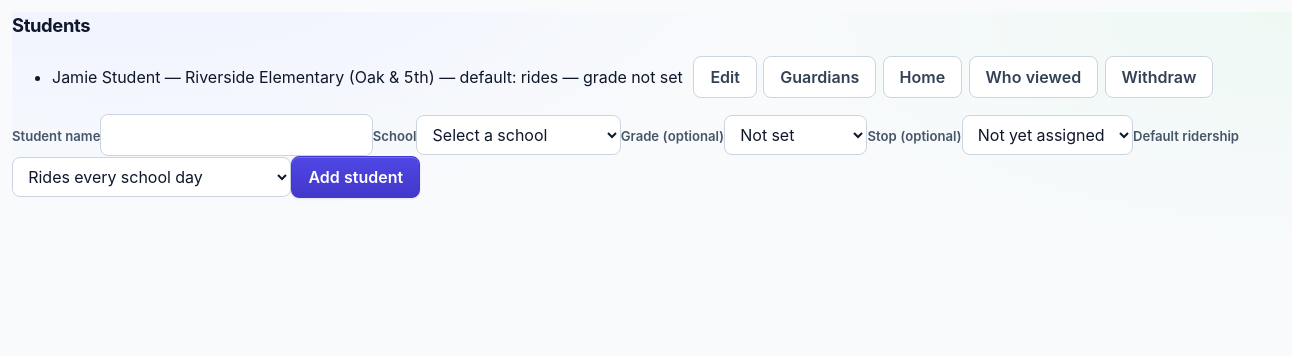
StudentsSection › shows the server error when saving fails
Click the button with aria-label "Edit Jamie Student": click(725, 77) [693,56,757,98]
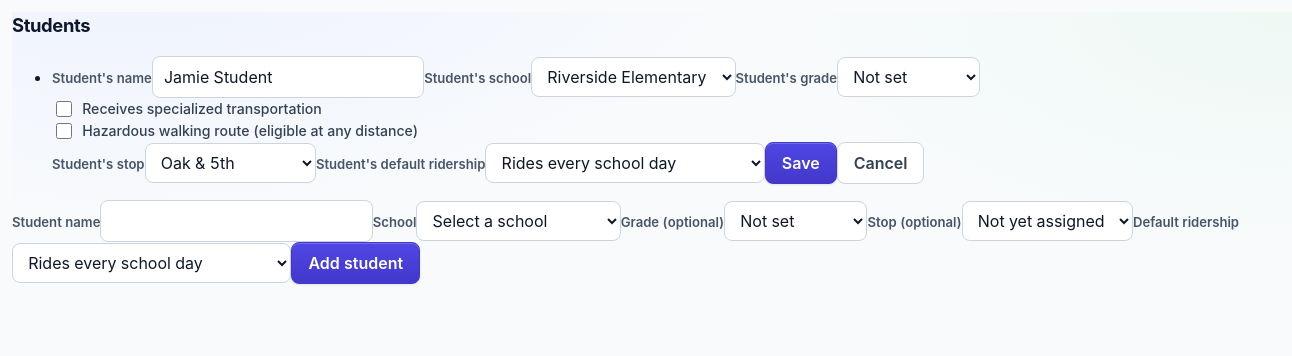
Click the button "Save": click(801, 163) [765,142,837,184]
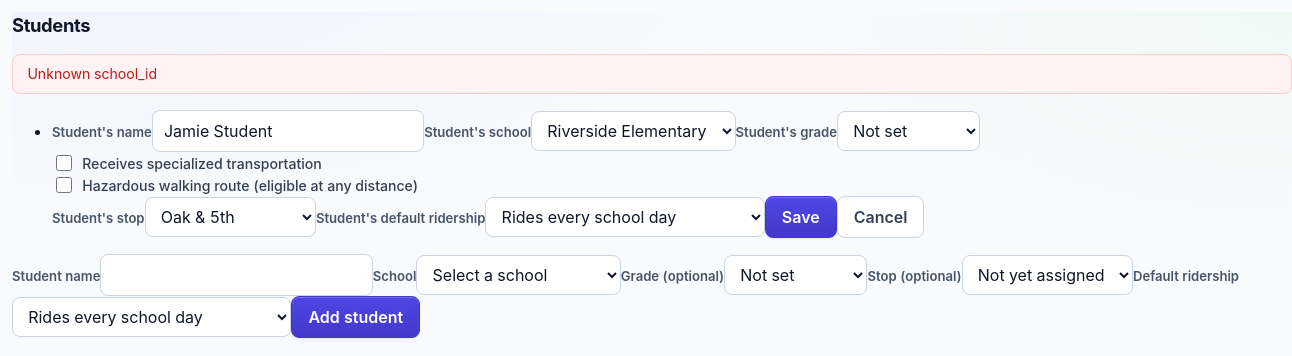
Result: the message reads "Unknown school_id" at [27,66,157,82]
